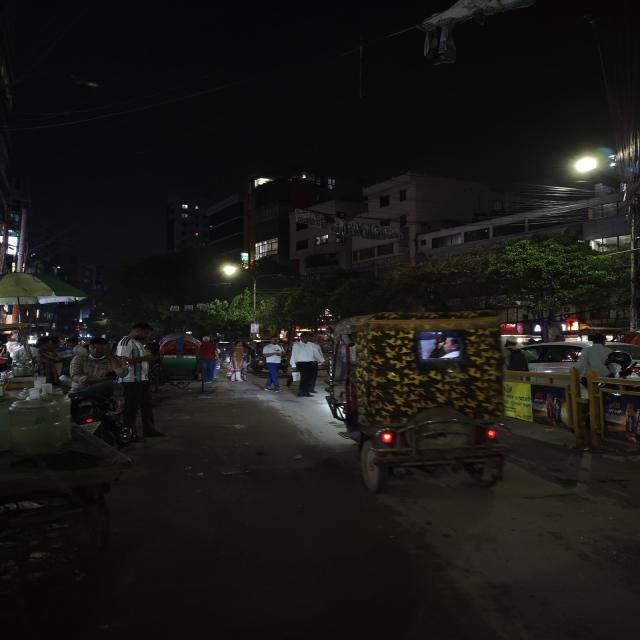pedestrian: (115, 320, 163, 444), (289, 331, 325, 395), (258, 336, 290, 392), (192, 333, 222, 387), (225, 337, 256, 383)
rickshaw: (324, 310, 520, 498)
